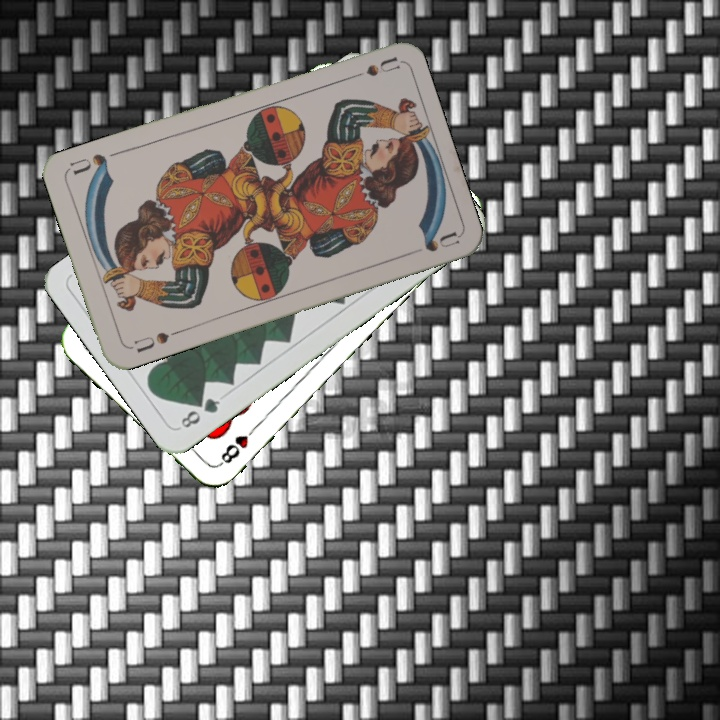G8: (176, 393, 223, 431)
H8: (215, 421, 260, 469)
SU: (342, 53, 401, 83), (126, 326, 183, 356)
